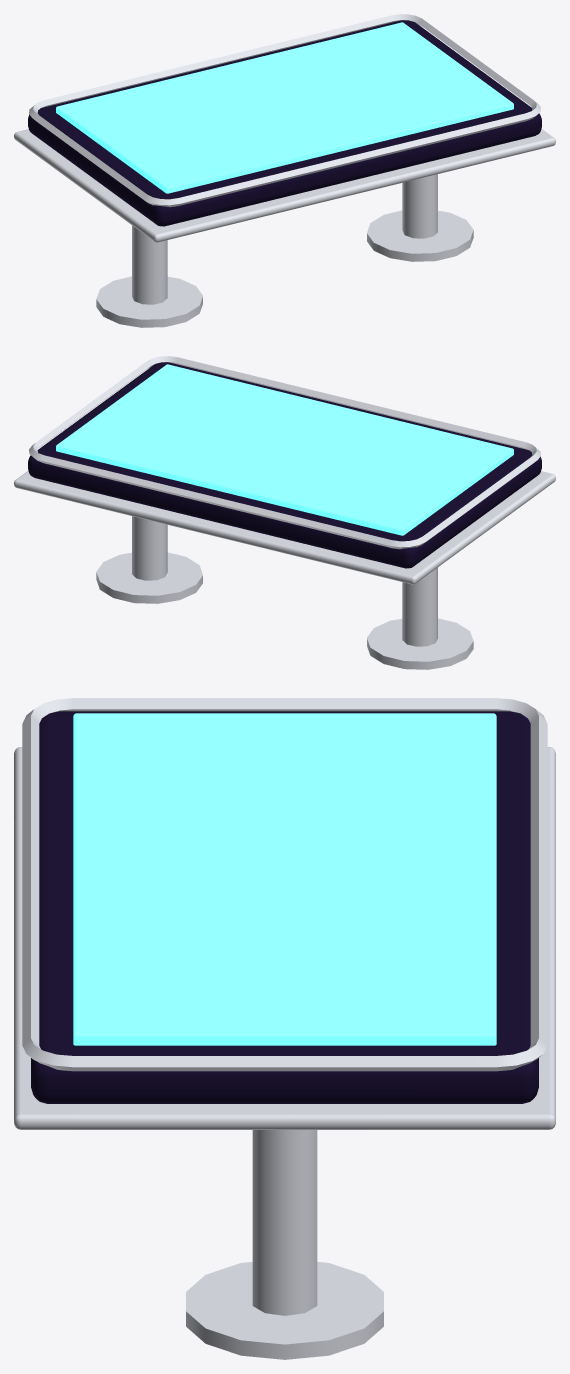
The model's file is table_lounge_glow.glb.
3 views of the same model, one above another, from view 1: azimuth 30°, elevation 25°; view 2: azimuth 150°, elevation 25°; view 3: azimuth 270°, elevation 25° (orthographic). The views are drawn at different scales.
Parts seen in each view (by area): view 1: table_lounge_glow; view 2: table_lounge_glow; view 3: table_lounge_glow.
Part boxes in pixels (box(x1,y1,x2,y2)): table_lounge_glow: box(14, 14, 555, 327); table_lounge_glow: box(14, 356, 555, 669); table_lounge_glow: box(14, 698, 555, 1359).
Bounding box in the file's own units: 1.04 × 0.415 × 0.64.
